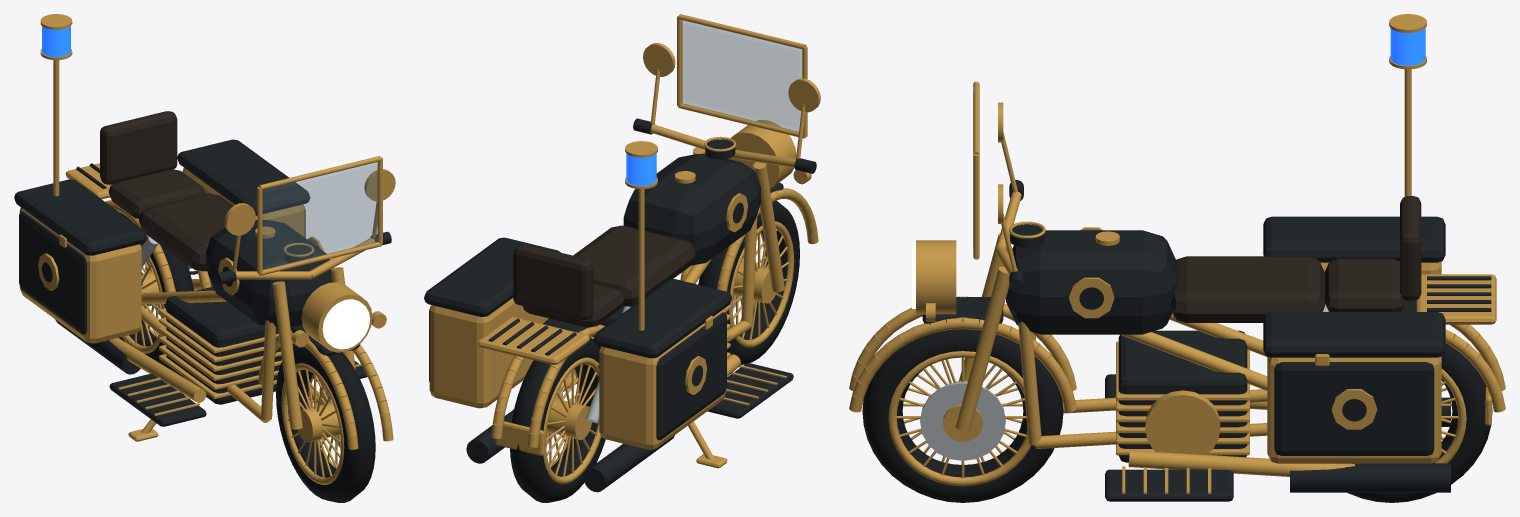
File: police-motorbike.glb
3 views of the same model, side by side, from view 1: azimuth 30°, elevation 25°; view 2: azimuth 150°, elevation 25°; view 3: azimuth 270°, elevation 25° (orthographic). The views are drawn at different scales.
Visible parts, largest first — view 1: PoliceMotorbike_Black enamel, PoliceMotorbike_Antique brass, PoliceMotorbike_Black leather, Steering_Antique brass, Steering_Windscreen, FrontWheel_Tyre rubber, FrontWheel_Antique brass, Steering_Headlamp, RearWheel_Tyre rubber, RearWheel_Antique brass, PoliceMotorbike_BlueBeacon, Steering_Black enamel; view 2: PoliceMotorbike_Black enamel, PoliceMotorbike_Antique brass, PoliceMotorbike_Black leather, Steering_Antique brass, Steering_Windscreen, RearWheel_Tyre rubber, RearWheel_Antique brass, FrontWheel_Tyre rubber, FrontWheel_Antique brass, Steering_Black enamel, PoliceMotorbike_BlueBeacon, Kickstand_Antique brass; view 3: PoliceMotorbike_Black enamel, PoliceMotorbike_Antique brass, PoliceMotorbike_Black leather, FrontWheel_Tyre rubber, Steering_Antique brass, FrontWheel_Antique brass, RearWheel_Tyre rubber, FrontWheel_Polished steel, PoliceMotorbike_BlueBeacon, RearWheel_Antique brass, Steering_Black enamel.
Boxes of the visible parts, x1,y1,x2,y2 form: PoliceMotorbike_Black enamel: (14, 139, 367, 426); PoliceMotorbike_Antique brass: (19, 14, 393, 449); PoliceMotorbike_Black leather: (100, 111, 233, 271); Steering_Antique brass: (224, 156, 395, 429); Steering_Windscreen: (263, 162, 378, 269); FrontWheel_Tyre rubber: (276, 345, 375, 502); FrontWheel_Antique brass: (281, 363, 344, 484); Steering_Headlamp: (322, 299, 369, 349); RearWheel_Tyre rubber: (119, 212, 193, 367); RearWheel_Antique brass: (122, 245, 164, 353); PoliceMotorbike_BlueBeacon: (42, 26, 70, 57); Steering_Black enamel: (215, 231, 391, 284); PoliceMotorbike_Black enamel: (424, 154, 793, 492); PoliceMotorbike_Antique brass: (429, 141, 818, 455); PoliceMotorbike_Black leather: (513, 225, 695, 327); Steering_Antique brass: (643, 14, 820, 292); Steering_Windscreen: (682, 20, 801, 132); RearWheel_Tyre rubber: (510, 337, 605, 502); RearWheel_Antique brass: (543, 357, 601, 484); FrontWheel_Tyre rubber: (698, 200, 799, 364); FrontWheel_Antique brass: (729, 221, 794, 347); Steering_Black enamel: (633, 118, 816, 173); PoliceMotorbike_BlueBeacon: (626, 153, 656, 185); Kickstand_Antique brass: (688, 421, 727, 468); PoliceMotorbike_Black enamel: (922, 216, 1491, 501); PoliceMotorbike_Antique brass: (849, 14, 1505, 493); PoliceMotorbike_Black leather: (1170, 196, 1421, 322); FrontWheel_Tyre rubber: (862, 329, 1063, 502); Steering_Antique brass: (916, 81, 1045, 431); FrontWheel_Antique brass: (888, 351, 1030, 486); RearWheel_Tyre rubber: (1347, 343, 1492, 502); FrontWheel_Polished steel: (920, 382, 1005, 460); PoliceMotorbike_BlueBeacon: (1390, 28, 1425, 65); RearWheel_Antique brass: (1435, 369, 1466, 463); Steering_Black enamel: (1009, 180, 1044, 292).
Bounding box in the file's own units: 1.19 × 1.78 × 2.45.
